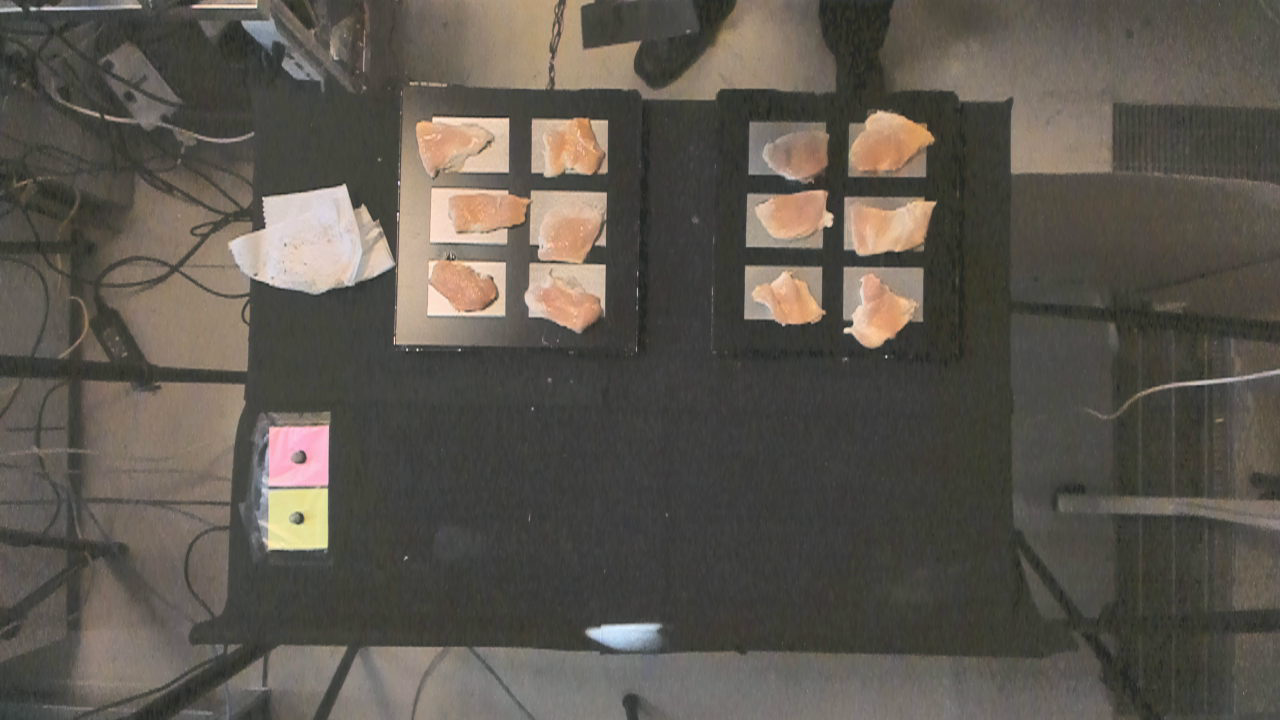chicken: (853, 106, 937, 174), (844, 196, 943, 253), (846, 272, 918, 350), (525, 268, 603, 337), (754, 258, 828, 324), (416, 118, 494, 178), (421, 260, 502, 314), (755, 186, 830, 243), (760, 128, 832, 181), (542, 119, 607, 177), (447, 190, 529, 232), (542, 214, 602, 260)
marker: (268, 424, 329, 486)
